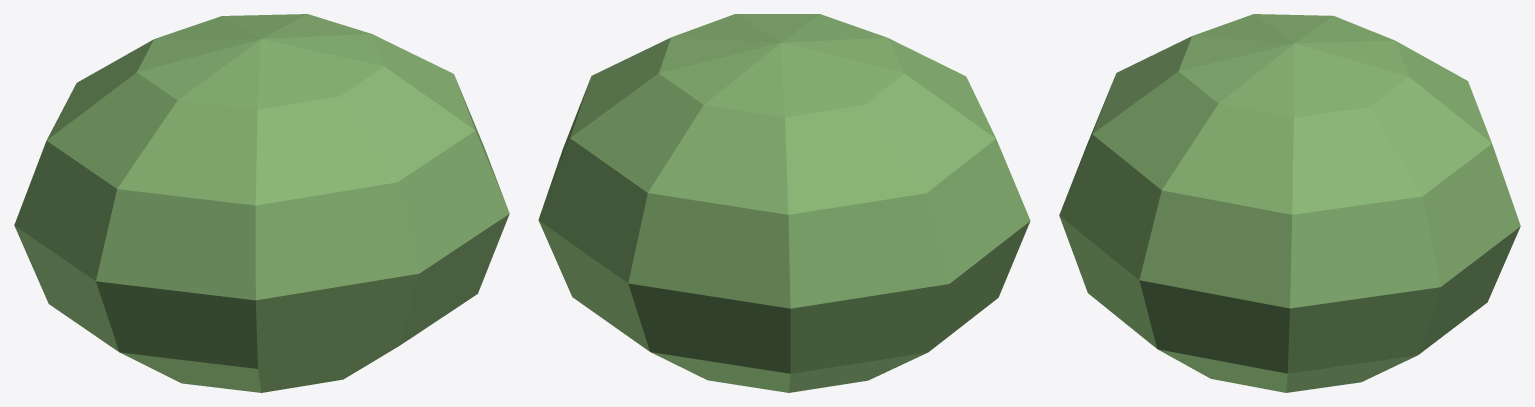
File: bosje3.fbx
The picture shows the model from 3 angles, left to right: view 1: azimuth 30°, elevation 25°; view 2: azimuth 150°, elevation 25°; view 3: azimuth 270°, elevation 25°; orthographic projection.
Visible parts, largest first — view 1: bosje3; view 2: bosje3; view 3: bosje3.
Boxes of the visible parts, left/top/right/bottom form: bosje3: left=14, top=14, right=509, bottom=392; bosje3: left=538, top=14, right=1030, bottom=392; bosje3: left=1059, top=14, right=1520, bottom=392.
Size of the model in its own units: 3.18 by 2.29 by 3.01.
